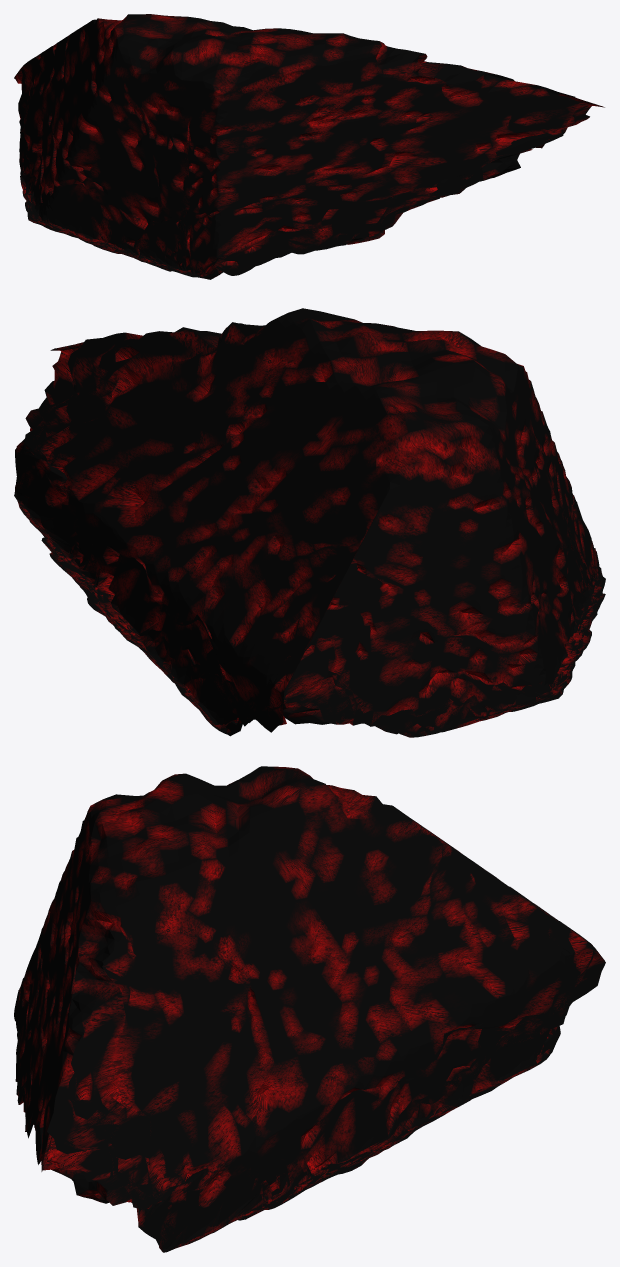
The model's file is rock-flat.glb.
3 views of the same model, one above another, from view 1: azimuth 30°, elevation 25°; view 2: azimuth 150°, elevation 25°; view 3: azimuth 270°, elevation 25° (orthographic). The views are drawn at different scales.
Parts seen in each view (by area): view 1: rock-flat; view 2: rock-flat; view 3: rock-flat.
Boxes of the visible parts, left/top/right/bottom form: rock-flat: left=14, top=14, right=604, bottom=279; rock-flat: left=14, top=308, right=605, bottom=737; rock-flat: left=14, top=766, right=605, bottom=1252.
Bounding box in the file's own units: 2.3 × 0.8495 × 1.84.
1 material, 1 textured.
